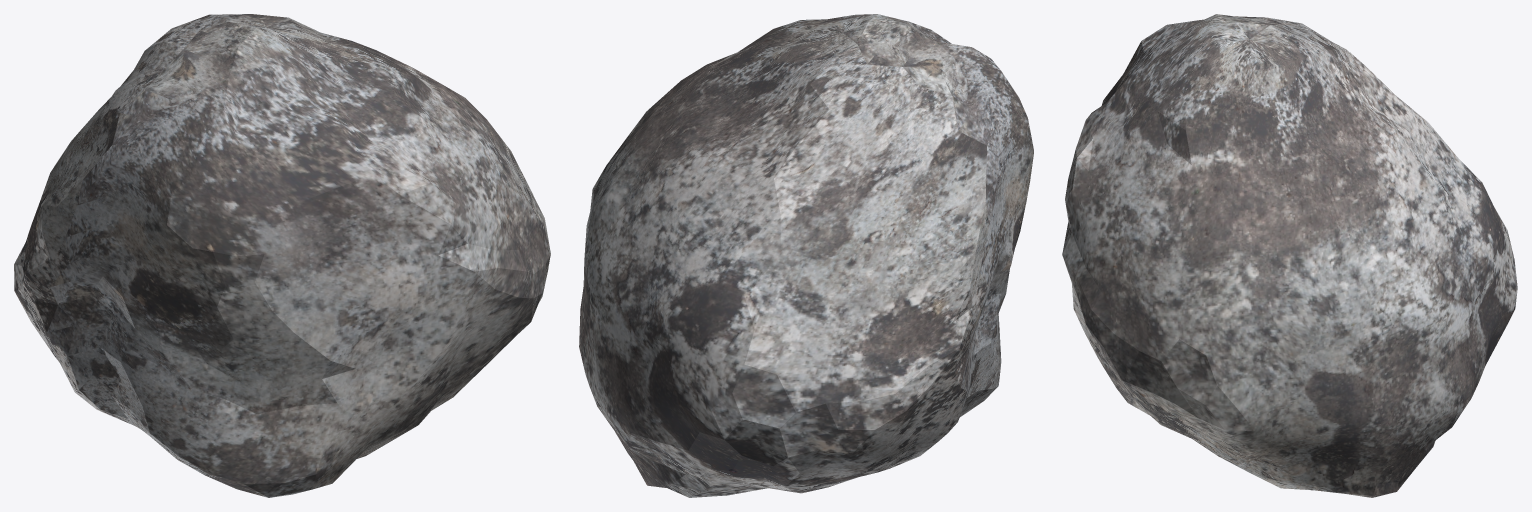
Rendered from Asteroid_Large_001.fbx.
3 views of the same model, side by side, from view 1: azimuth 30°, elevation 25°; view 2: azimuth 150°, elevation 25°; view 3: azimuth 270°, elevation 25° (orthographic). The views are drawn at different scales.
Parts seen in each view (by area): view 1: Asteroid_Large_001; view 2: Asteroid_Large_001; view 3: Asteroid_Large_001.
Part boxes in pixels (box(x1,y1,x2,y2)): Asteroid_Large_001: box(14, 14, 550, 497); Asteroid_Large_001: box(579, 14, 1033, 497); Asteroid_Large_001: box(1062, 14, 1517, 497).
Size of the model in its own units: 42.9 by 42.88 by 42.63.
Materials: 1 (1 with a texture image).
